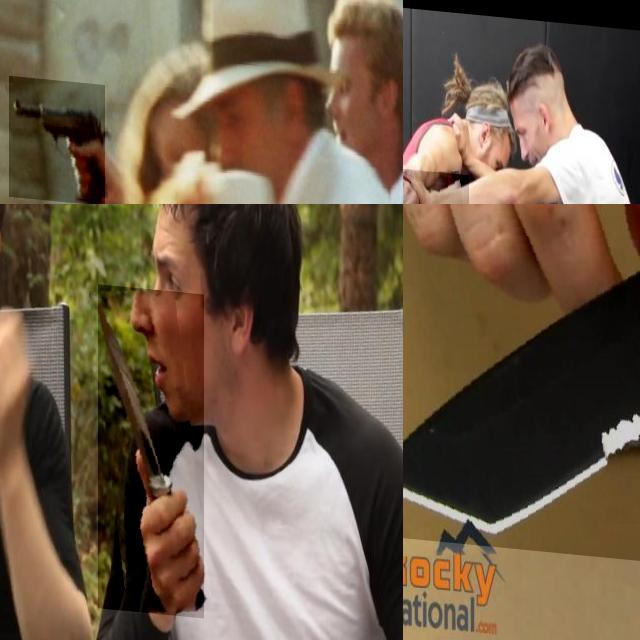-: (403, 204, 640, 583), (98, 278, 204, 610), (403, 162, 469, 204)
gun-knife-thesis - v11 Yolov5 augmented: (9, 73, 105, 201)
